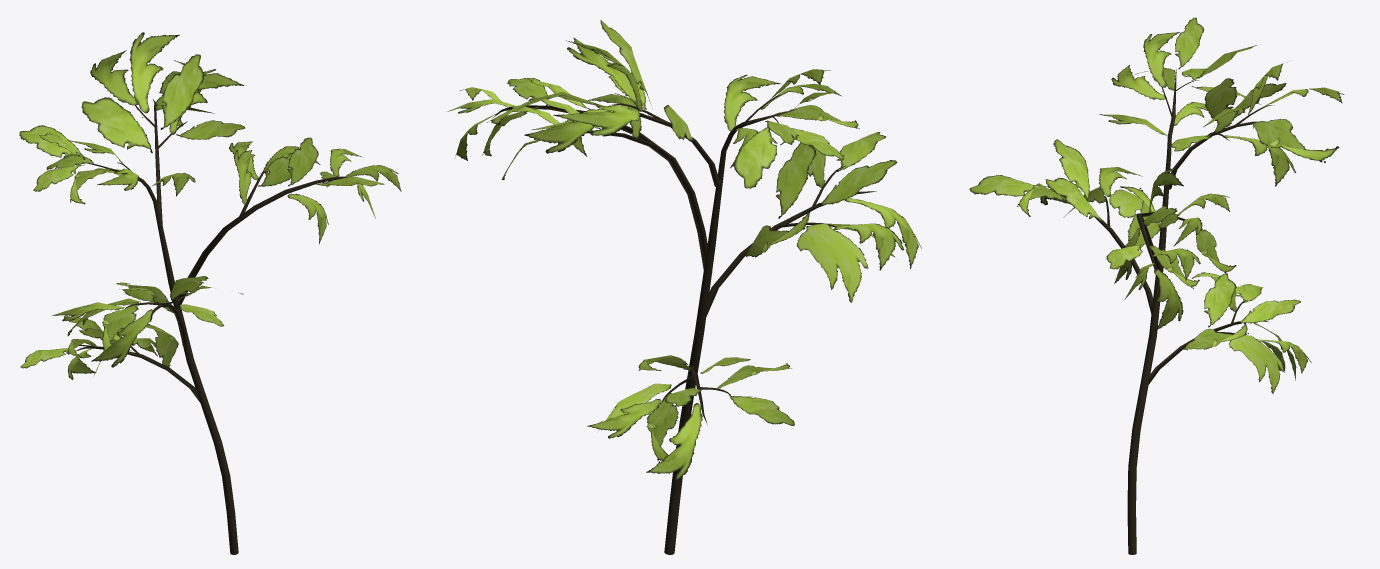
Rendered from SaplingVar2.fbx.
The picture shows the model from 3 angles, left to right: view 1: azimuth 30°, elevation 25°; view 2: azimuth 150°, elevation 25°; view 3: azimuth 270°, elevation 25°; orthographic projection. The views are drawn at different scales.
Visible parts, largest first — view 1: LeavesVar2, TrunkVar2; view 2: LeavesVar2, TrunkVar2; view 3: LeavesVar2, TrunkVar2.
Part boxes in pixels (x1=…): LeavesVar2: x1=19, y1=32, x2=401, y2=379; TrunkVar2: x1=76, y1=99, x2=345, y2=554; LeavesVar2: x1=447, y1=20, x2=921, y2=480; TrunkVar2: x1=492, y1=93, x2=876, y2=554; LeavesVar2: x1=969, y1=17, x2=1344, y2=393; TrunkVar2: x1=1044, y1=69, x2=1274, y2=554.
Bounding box in the file's own units: 2.13 × 2.61 × 1.92.
Materials: 2 (1 with a texture image).
